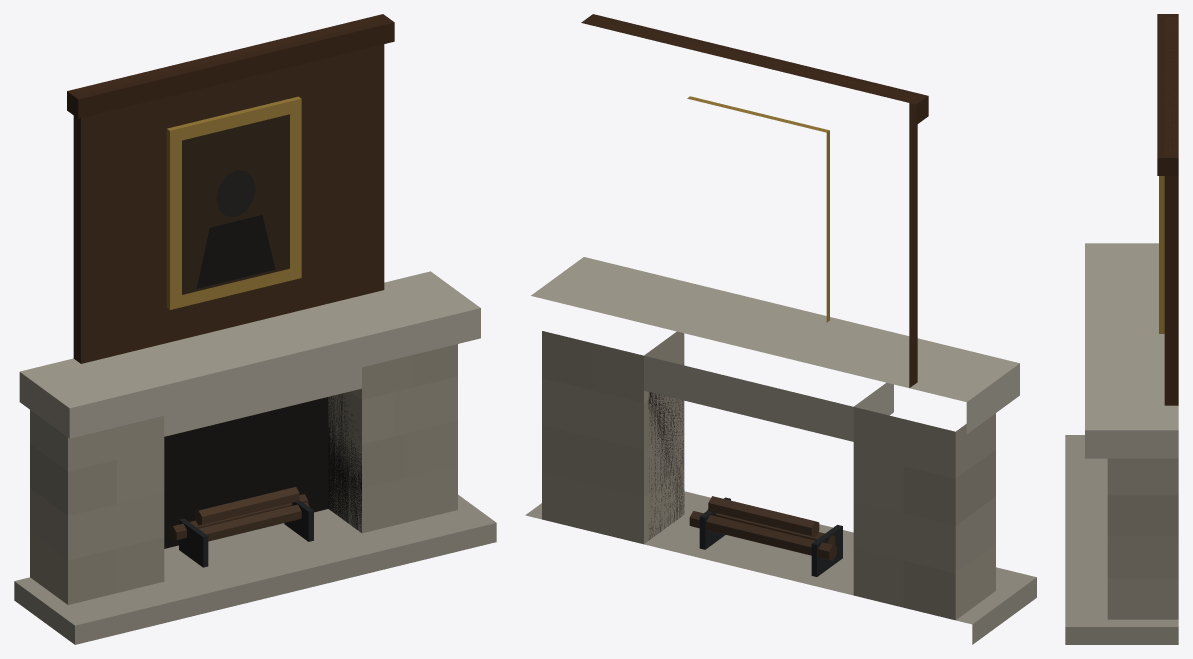
The model's file is wall.fireplace.portrait.glb.
3 views of the same model, side by side, from view 1: azimuth 30°, elevation 25°; view 2: azimuth 150°, elevation 25°; view 3: azimuth 270°, elevation 25° (orthographic). The views are drawn at different scales.
Parts seen in each view (by area): view 1: wall_fireplace_portrait; view 2: wall_fireplace_portrait; view 3: wall_fireplace_portrait.
Part boxes in pixels (x1=…): wall_fireplace_portrait: x1=14, y1=14, x2=496, y2=644; wall_fireplace_portrait: x1=525, y1=14, x2=1036, y2=644; wall_fireplace_portrait: x1=1065, y1=14, x2=1178, y2=644.
Size of what is drawn, in the model's own units: 3.2 by 3.6 by 0.8.
